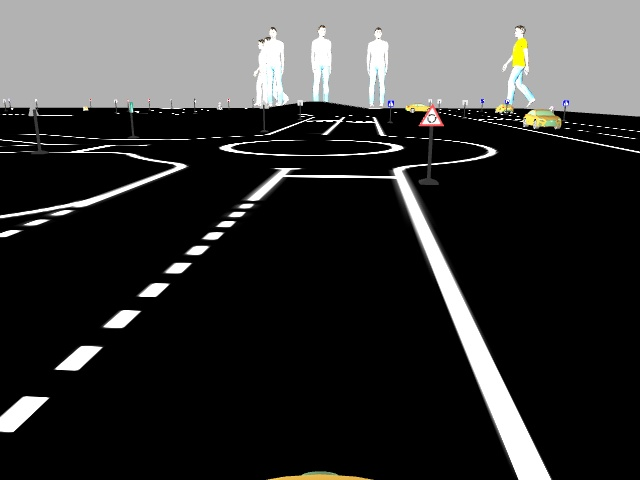Roundabout: (417, 103, 445, 129)
